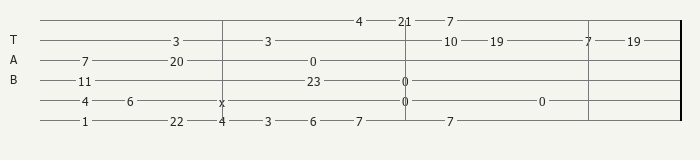0: (310, 54, 321, 67), (402, 74, 413, 87), (402, 94, 413, 107), (539, 94, 550, 107)
1: (82, 114, 93, 127)
10: (444, 34, 462, 47)
11: (78, 74, 96, 87)
19: (490, 34, 508, 47), (627, 34, 645, 47)
20: (170, 54, 188, 67)
21: (398, 14, 416, 27)
22: (170, 114, 188, 127)
23: (307, 74, 325, 87)
3: (173, 34, 184, 47), (265, 34, 276, 47), (265, 114, 276, 127)
4: (82, 94, 93, 107), (219, 114, 230, 127), (356, 14, 367, 27)
6: (127, 94, 138, 107), (310, 114, 321, 127)
7: (82, 54, 93, 67), (356, 114, 367, 127), (447, 14, 458, 27), (447, 114, 458, 127), (585, 34, 596, 47)
x: (219, 95, 229, 106)
